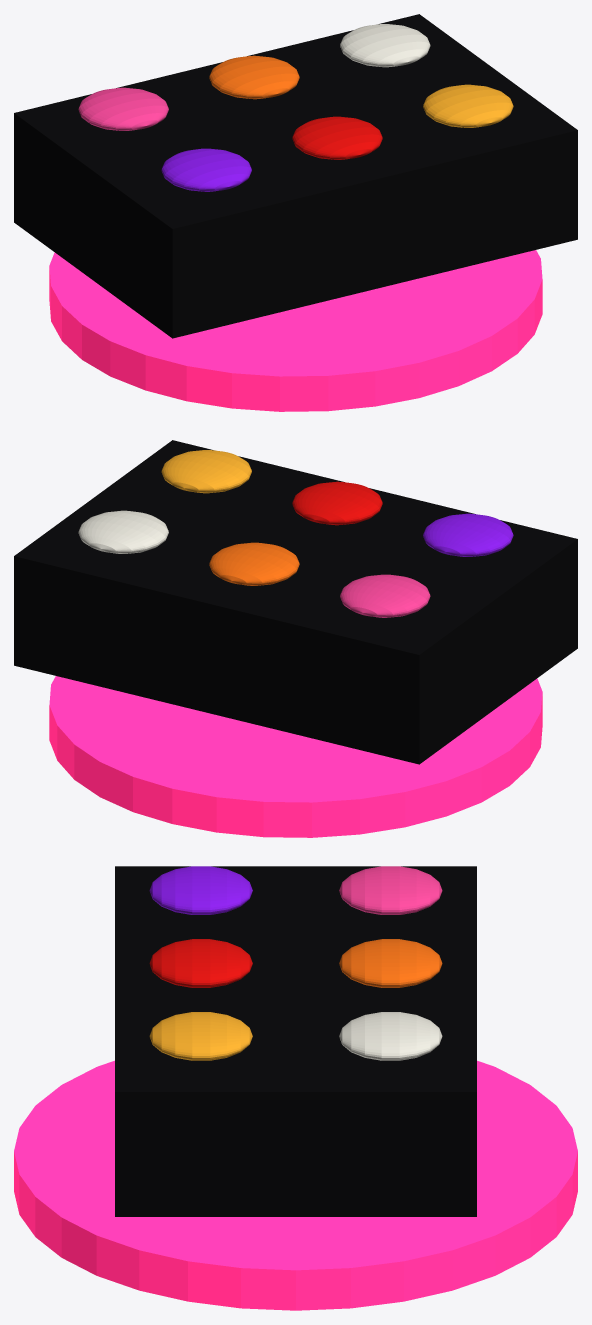
Rendered from beauty_eyeshadow_palette.dae.
3 renders of one model, top to bottom at view 1: azimuth 30°, elevation 25°; view 2: azimuth 150°, elevation 25°; view 3: azimuth 270°, elevation 25°, orthographic. The views are drawn at different scales.
Parts seen in each view (by area): view 1: 03_06_Popular_Beauty_Eyeshadow_Palette_part_01, 03_06_Popular_Beauty_Eyeshadow_Palette_ROOT_base, 03_06_Popular_Beauty_Eyeshadow_Palette_part_03, 03_06_Popular_Beauty_Eyeshadow_Palette_part_04, 03_06_Popular_Beauty_Eyeshadow_Palette_part_07, 03_06_Popular_Beauty_Eyeshadow_Palette_part_05, 03_06_Popular_Beauty_Eyeshadow_Palette_part_06, 03_06_Popular_Beauty_Eyeshadow_Palette_part_02; view 2: 03_06_Popular_Beauty_Eyeshadow_Palette_part_01, 03_06_Popular_Beauty_Eyeshadow_Palette_ROOT_base, 03_06_Popular_Beauty_Eyeshadow_Palette_part_02, 03_06_Popular_Beauty_Eyeshadow_Palette_part_05, 03_06_Popular_Beauty_Eyeshadow_Palette_part_06, 03_06_Popular_Beauty_Eyeshadow_Palette_part_04, 03_06_Popular_Beauty_Eyeshadow_Palette_part_07, 03_06_Popular_Beauty_Eyeshadow_Palette_part_03; view 3: 03_06_Popular_Beauty_Eyeshadow_Palette_part_01, 03_06_Popular_Beauty_Eyeshadow_Palette_ROOT_base, 03_06_Popular_Beauty_Eyeshadow_Palette_part_02, 03_06_Popular_Beauty_Eyeshadow_Palette_part_03, 03_06_Popular_Beauty_Eyeshadow_Palette_part_04, 03_06_Popular_Beauty_Eyeshadow_Palette_part_05, 03_06_Popular_Beauty_Eyeshadow_Palette_part_06, 03_06_Popular_Beauty_Eyeshadow_Palette_part_07.
Part boxes in pixels (<box>): 03_06_Popular_Beauty_Eyeshadow_Palette_part_01: <box>14,14,577,338</box>; 03_06_Popular_Beauty_Eyeshadow_Palette_ROOT_base: <box>49,250,542,411</box>; 03_06_Popular_Beauty_Eyeshadow_Palette_part_03: <box>161,148,251,191</box>; 03_06_Popular_Beauty_Eyeshadow_Palette_part_04: <box>209,55,299,99</box>; 03_06_Popular_Beauty_Eyeshadow_Palette_part_07: <box>423,84,513,127</box>; 03_06_Popular_Beauty_Eyeshadow_Palette_part_05: <box>292,116,382,159</box>; 03_06_Popular_Beauty_Eyeshadow_Palette_part_06: <box>340,24,430,67</box>; 03_06_Popular_Beauty_Eyeshadow_Palette_part_02: <box>78,87,168,130</box>; 03_06_Popular_Beauty_Eyeshadow_Palette_part_01: <box>14,440,577,764</box>; 03_06_Popular_Beauty_Eyeshadow_Palette_ROOT_base: <box>49,676,542,837</box>; 03_06_Popular_Beauty_Eyeshadow_Palette_part_02: <box>340,574,430,617</box>; 03_06_Popular_Beauty_Eyeshadow_Palette_part_05: <box>292,481,382,525</box>; 03_06_Popular_Beauty_Eyeshadow_Palette_part_06: <box>78,510,168,553</box>; 03_06_Popular_Beauty_Eyeshadow_Palette_part_04: <box>209,542,299,585</box>; 03_06_Popular_Beauty_Eyeshadow_Palette_part_07: <box>161,450,251,493</box>; 03_06_Popular_Beauty_Eyeshadow_Palette_part_03: <box>423,513,513,556</box>; 03_06_Popular_Beauty_Eyeshadow_Palette_part_01: <box>115,866,476,1216</box>; 03_06_Popular_Beauty_Eyeshadow_Palette_ROOT_base: <box>14,1060,577,1310</box>; 03_06_Popular_Beauty_Eyeshadow_Palette_part_02: <box>339,866,442,914</box>; 03_06_Popular_Beauty_Eyeshadow_Palette_part_03: <box>149,866,252,914</box>; 03_06_Popular_Beauty_Eyeshadow_Palette_part_04: <box>339,939,442,987</box>; 03_06_Popular_Beauty_Eyeshadow_Palette_part_05: <box>149,939,252,987</box>; 03_06_Popular_Beauty_Eyeshadow_Palette_part_06: <box>339,1012,442,1060</box>; 03_06_Popular_Beauty_Eyeshadow_Palette_part_07: <box>149,1012,252,1060</box>.
Size of the model in its own units: 0.76 by 0.3562 by 0.76.
